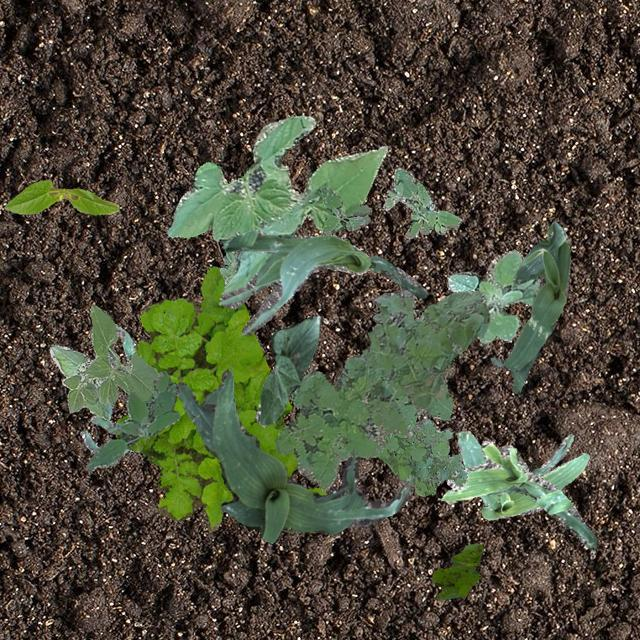crop: (174, 368, 413, 542), (166, 114, 386, 294), (218, 228, 427, 334), (441, 440, 596, 548), (490, 220, 570, 392), (49, 304, 158, 420), (456, 429, 588, 518), (254, 314, 322, 426), (80, 324, 134, 454), (3, 180, 118, 213)
weed: (113, 266, 325, 532), (274, 288, 490, 490), (86, 370, 178, 470), (446, 248, 538, 342), (376, 418, 468, 494), (382, 166, 461, 238), (432, 542, 482, 600), (318, 184, 369, 234), (218, 246, 242, 286)
